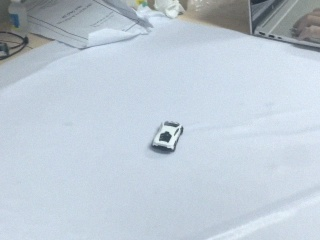toy_car: (151, 121, 183, 151)
